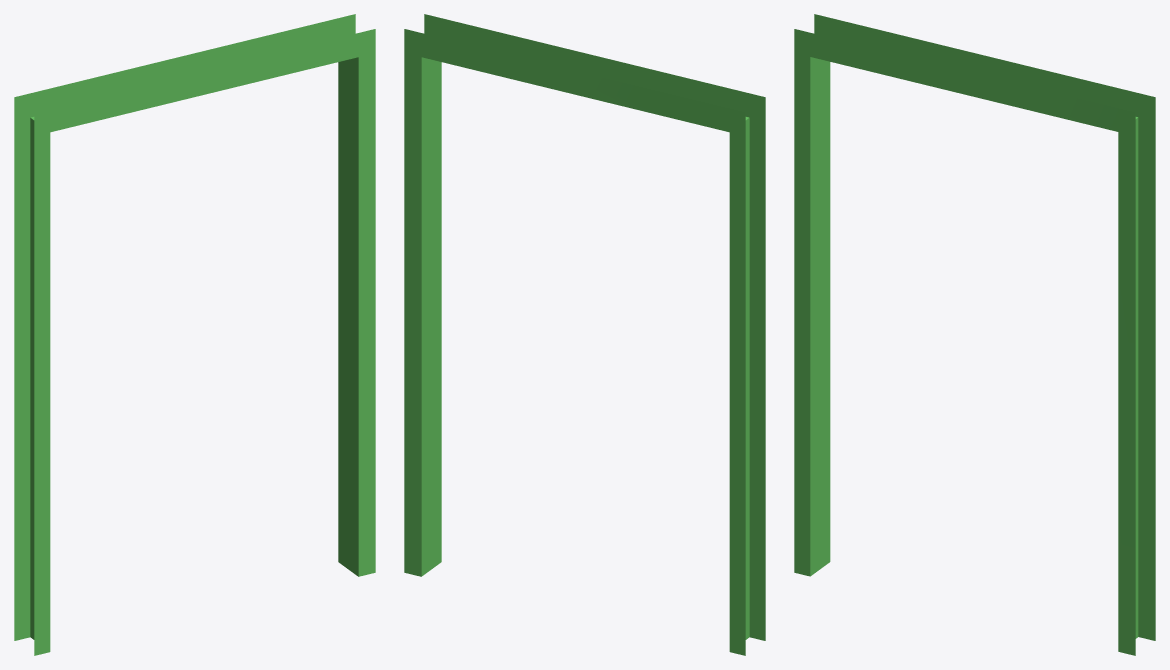
File: Gen_Door_B_Fr_Frame.fbx
The picture shows the model from 3 angles, left to right: view 1: azimuth 30°, elevation 25°; view 2: azimuth 150°, elevation 25°; view 3: azimuth 330°, elevation 25°; orthographic projection.
Visible parts, largest first — view 1: Gen_Door_B_Fr_Frame; view 2: Gen_Door_B_Fr_Frame; view 3: Gen_Door_B_Fr_Frame.
Boxes of the visible parts, x1,y1,x2,y2 form: Gen_Door_B_Fr_Frame: (14, 14, 375, 655); Gen_Door_B_Fr_Frame: (404, 14, 765, 655); Gen_Door_B_Fr_Frame: (794, 14, 1155, 655).
Size of the model in its own units: 220 by 335 by 22.53.
